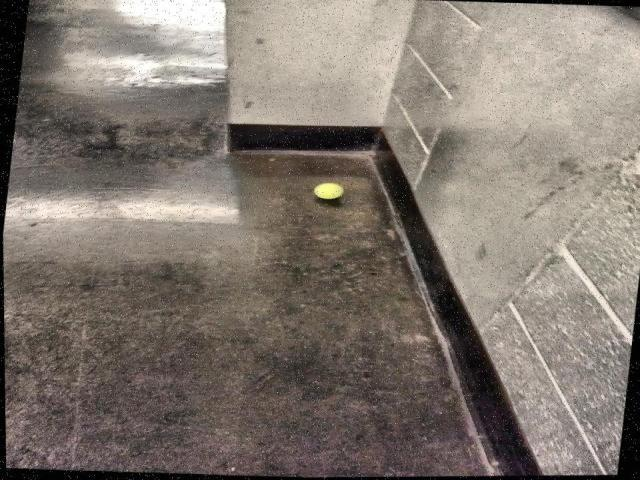tennis-ball: (314, 183, 342, 199)
